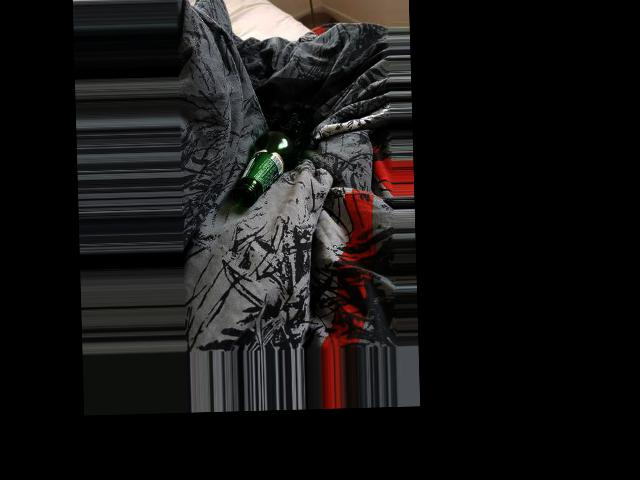beer: (231, 107, 317, 207)
